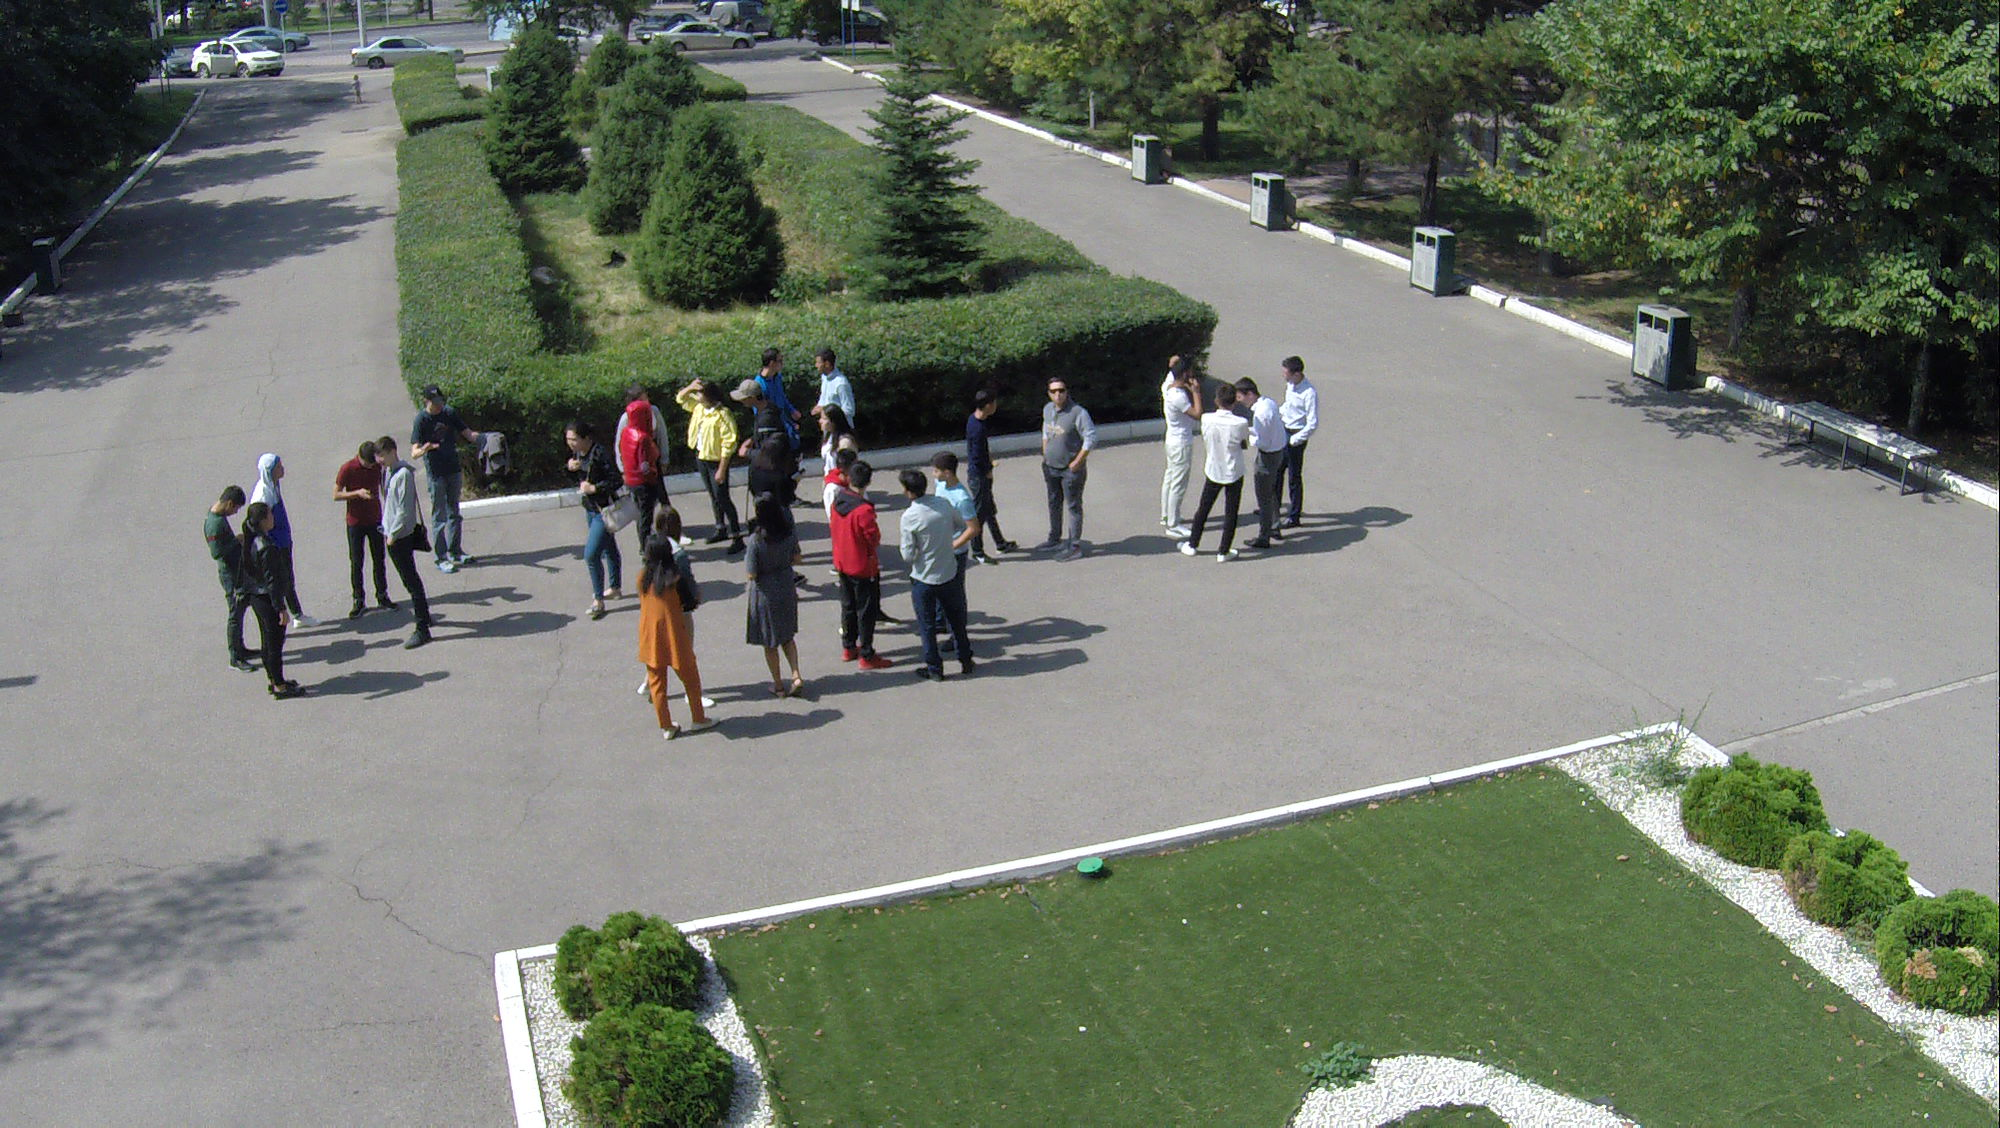person: (624, 537, 716, 743), (743, 495, 818, 703), (903, 478, 978, 685), (374, 433, 439, 664), (818, 466, 893, 664), (410, 391, 480, 580), (1182, 380, 1247, 576), (239, 499, 299, 703), (562, 422, 620, 630), (957, 389, 1020, 566), (1037, 380, 1097, 564), (1266, 339, 1322, 537), (203, 489, 262, 668), (678, 378, 737, 549), (1237, 380, 1291, 566), (1160, 358, 1203, 547), (335, 451, 382, 620), (814, 343, 862, 447), (745, 347, 795, 441), (255, 443, 291, 539), (924, 453, 968, 526)
